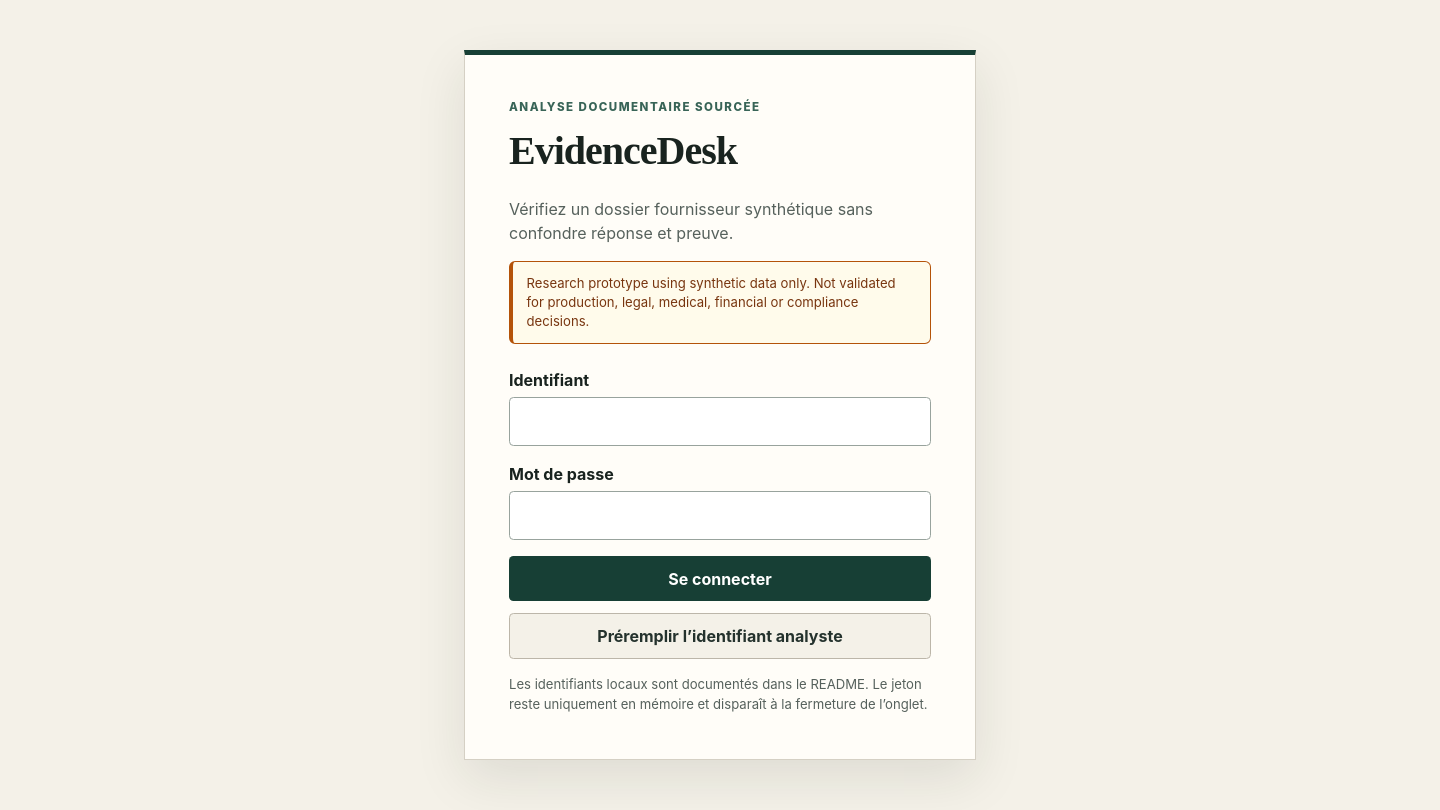
Test: EvidenceDesk REST flow › renders measured evaluation metrics and field-level extraction evidence
Type "demo.admin" into the field labelled "Identifiant" at {"x": 720, "y": 422}, box x1=509 y1=397 x2=931 y2=446
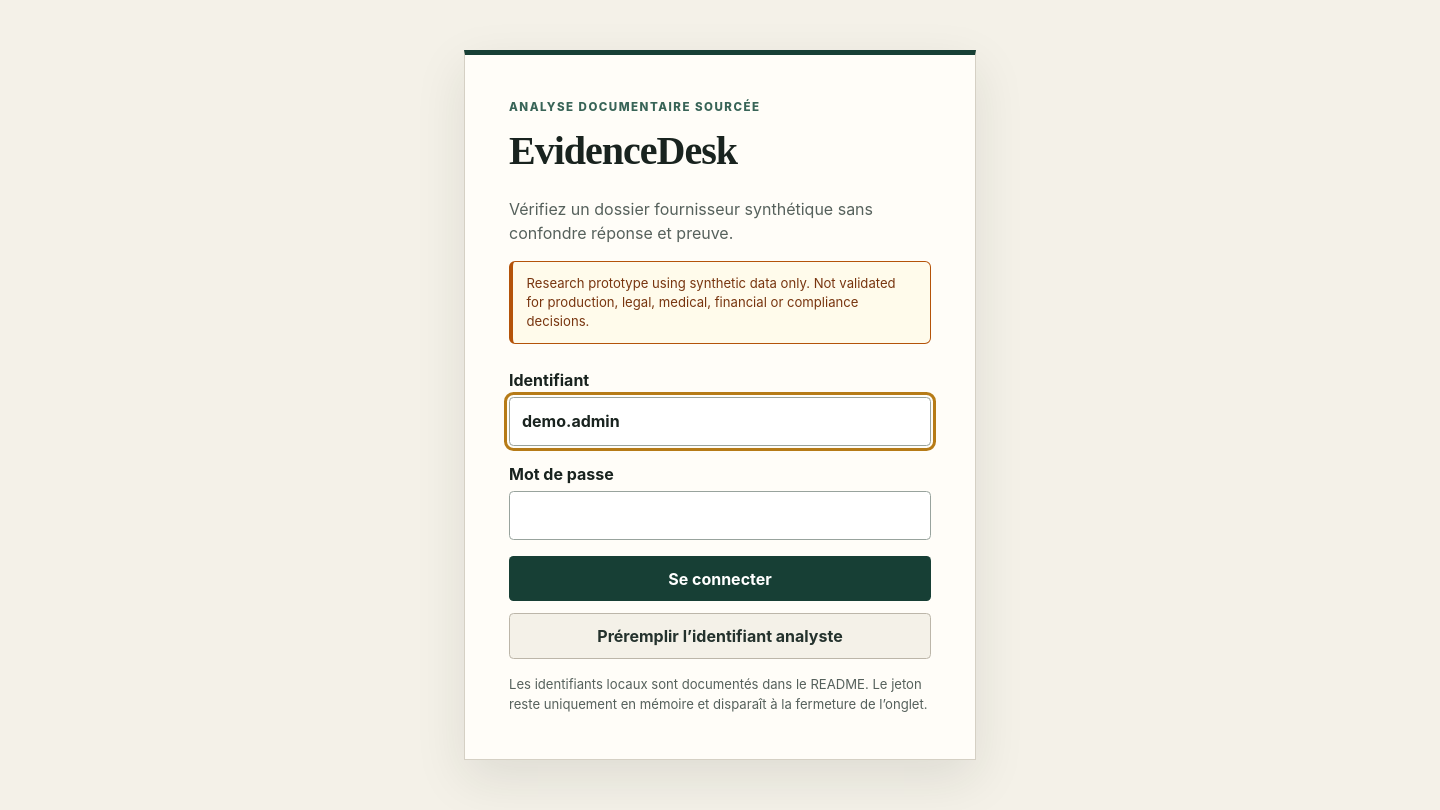
Type "x" into the password field labelled "Mot de passe" at {"x": 720, "y": 516}, box x1=509 y1=491 x2=931 y2=540
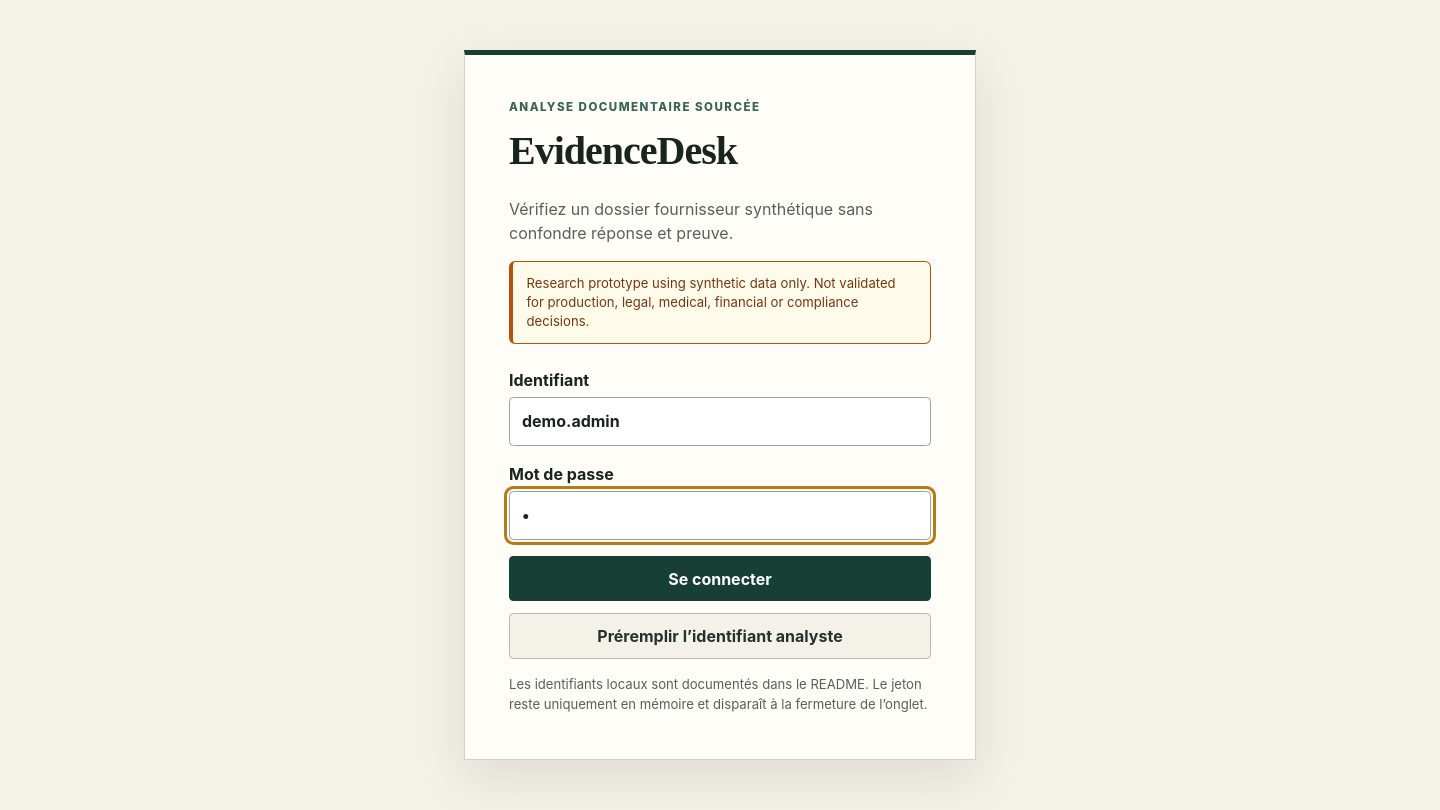
Click the button "Se connecter" at {"x": 720, "y": 578}, box x1=509 y1=556 x2=931 y2=601
(page scrolled)
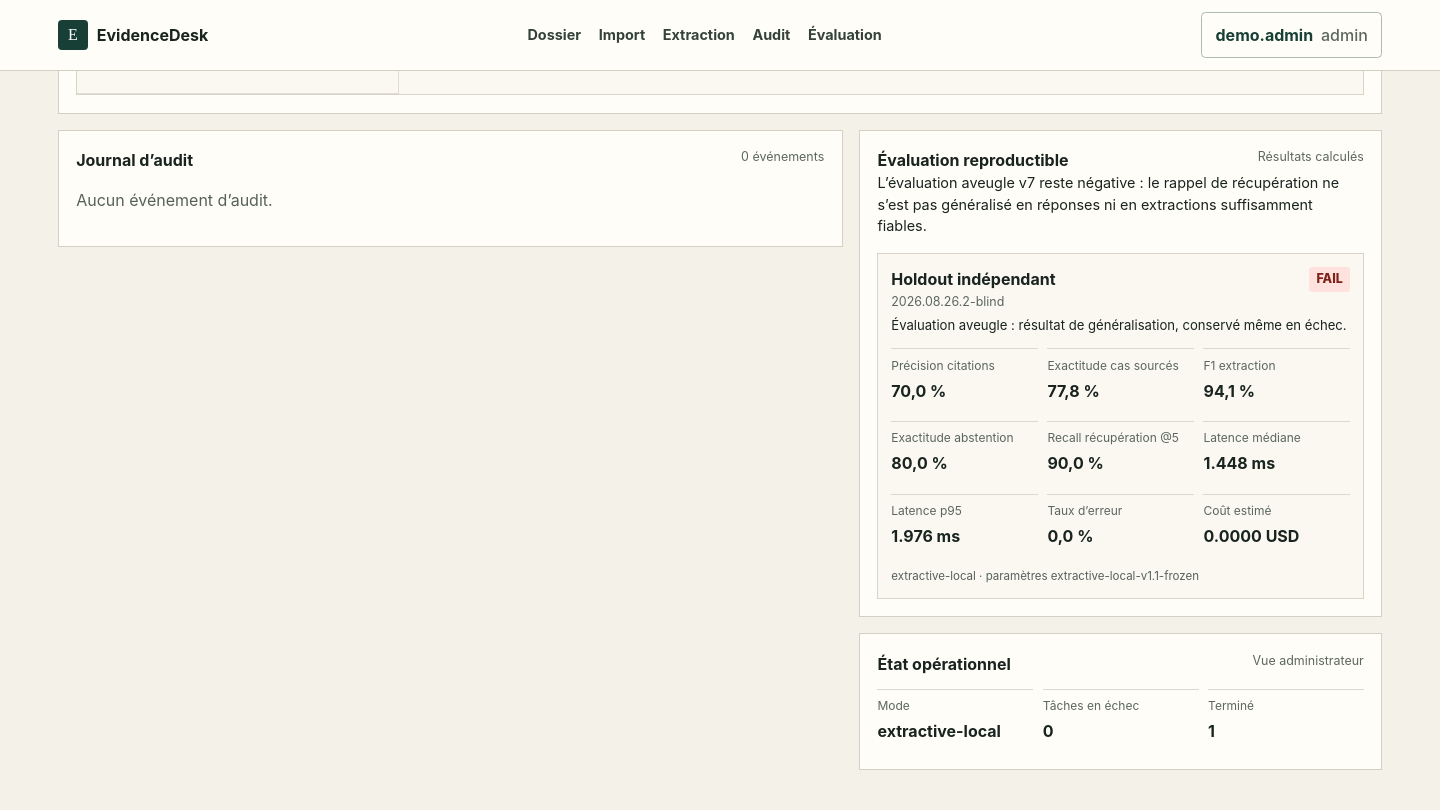
Expected: the text "2026-01-15" is shown, x1=90 y1=20 x2=181 y2=40
Expected: the button with aria-label "source accord.pdf, page 1" is shown, x1=90 y1=42 x2=218 y2=72
Expected: the text "70,0 %" is shown, x1=891 y1=381 x2=946 y2=401
